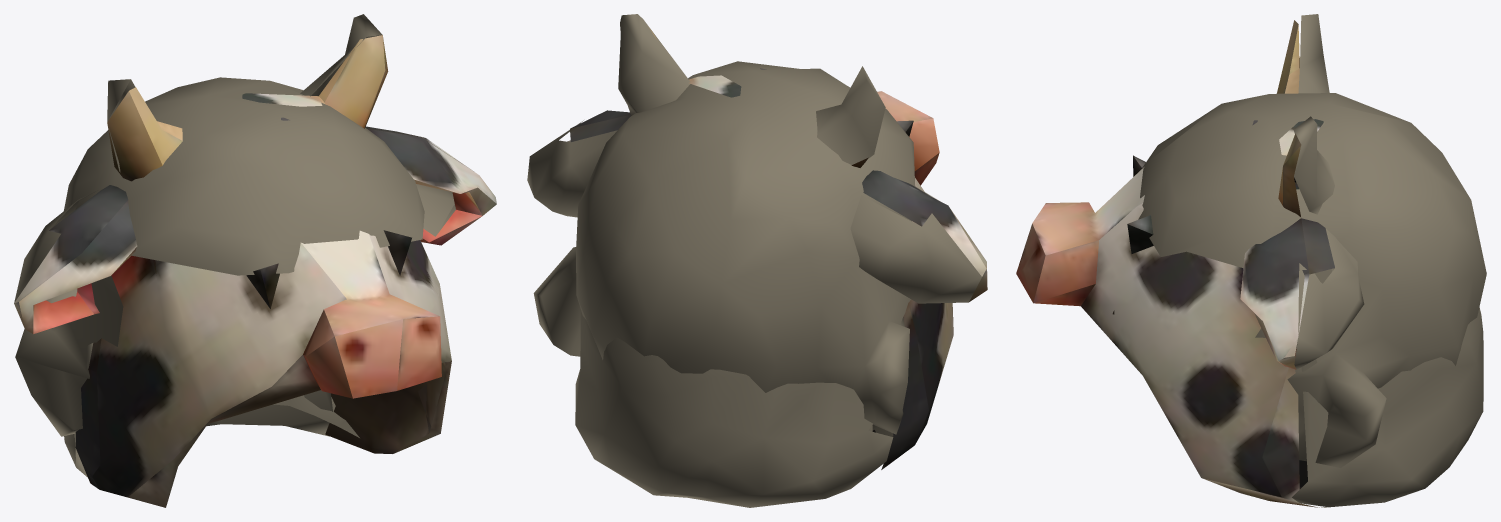
Rendered from cow.glb.
3 renders of one model, left to right at view 1: azimuth 30°, elevation 25°; view 2: azimuth 150°, elevation 25°; view 3: azimuth 270°, elevation 25°, orthographic. The views are drawn at different scales.
Parts seen in each view (by area): view 1: geometry_0, HoodAnatomicalLining; view 2: HoodAnatomicalLining, geometry_0; view 3: geometry_0, HoodAnatomicalLining.
Part boxes in pixels (left/top/right/bottom): geometry_0: left=14, top=14, right=496, bottom=507; HoodAnatomicalLining: left=15, top=77, right=424, bottom=437; HoodAnatomicalLining: left=533, top=61, right=914, bottom=436; geometry_0: left=527, top=14, right=987, bottom=507; geometry_0: left=1016, top=14, right=1483, bottom=507; HoodAnatomicalLining: left=1138, top=93, right=1486, bottom=498.
Size of the model in its own units: 0.5642 by 0.4864 by 0.5242.
2 materials, 1 textured.
